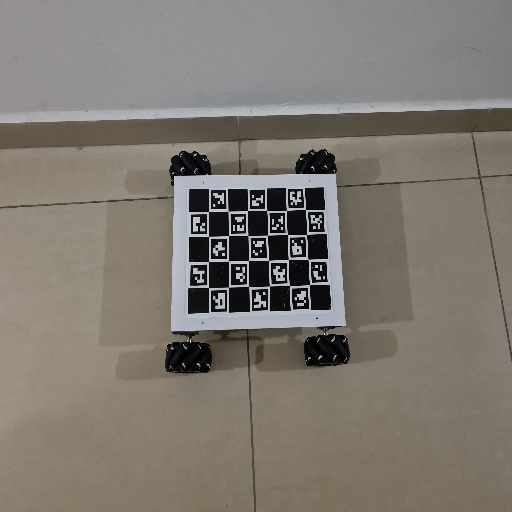Omniwheel: (165, 148, 352, 375)
